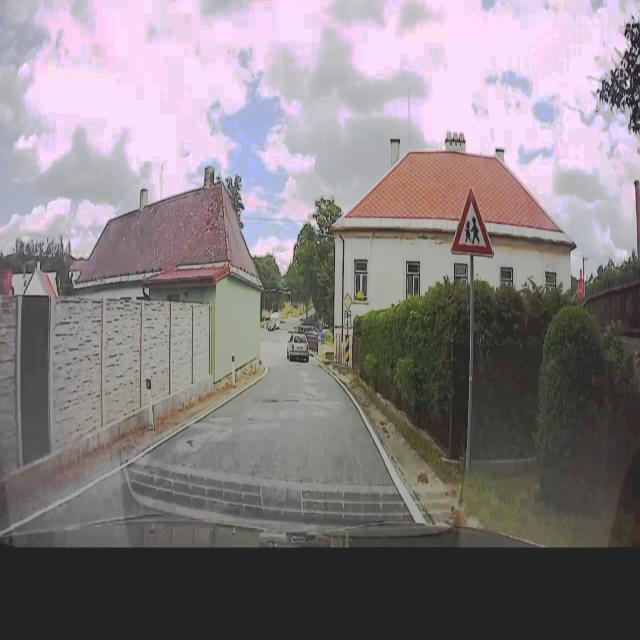Priority road: (343, 292, 353, 310)
